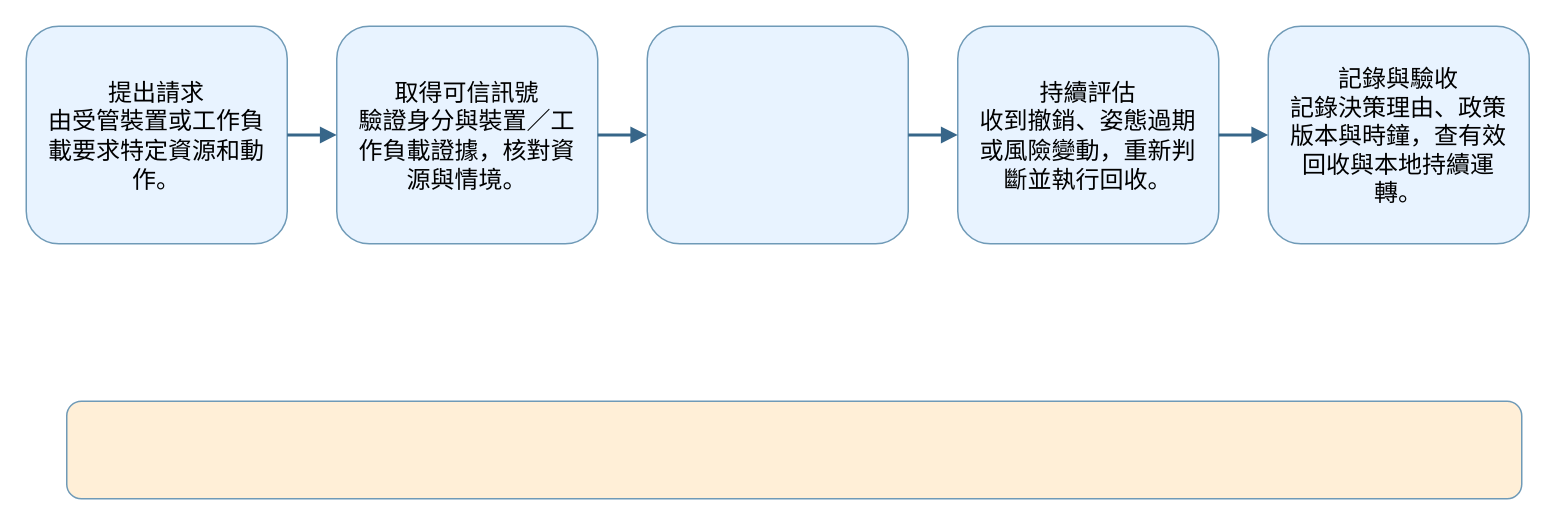
The diagram is 1556 pixels wide and 525 high, and some of its shapes have lost their labels. The centre of each missing label's shape, as x and y in pixels:
"不符合、超過時效或決策依賴故障：遠端不預設放行；依核准策略收回。" belongs at pixel 793 449.
"判定與執行 PE 作決策，PA 協調由 PEP 建立、限制或拒絕通道。" belongs at pixel 777 134.
